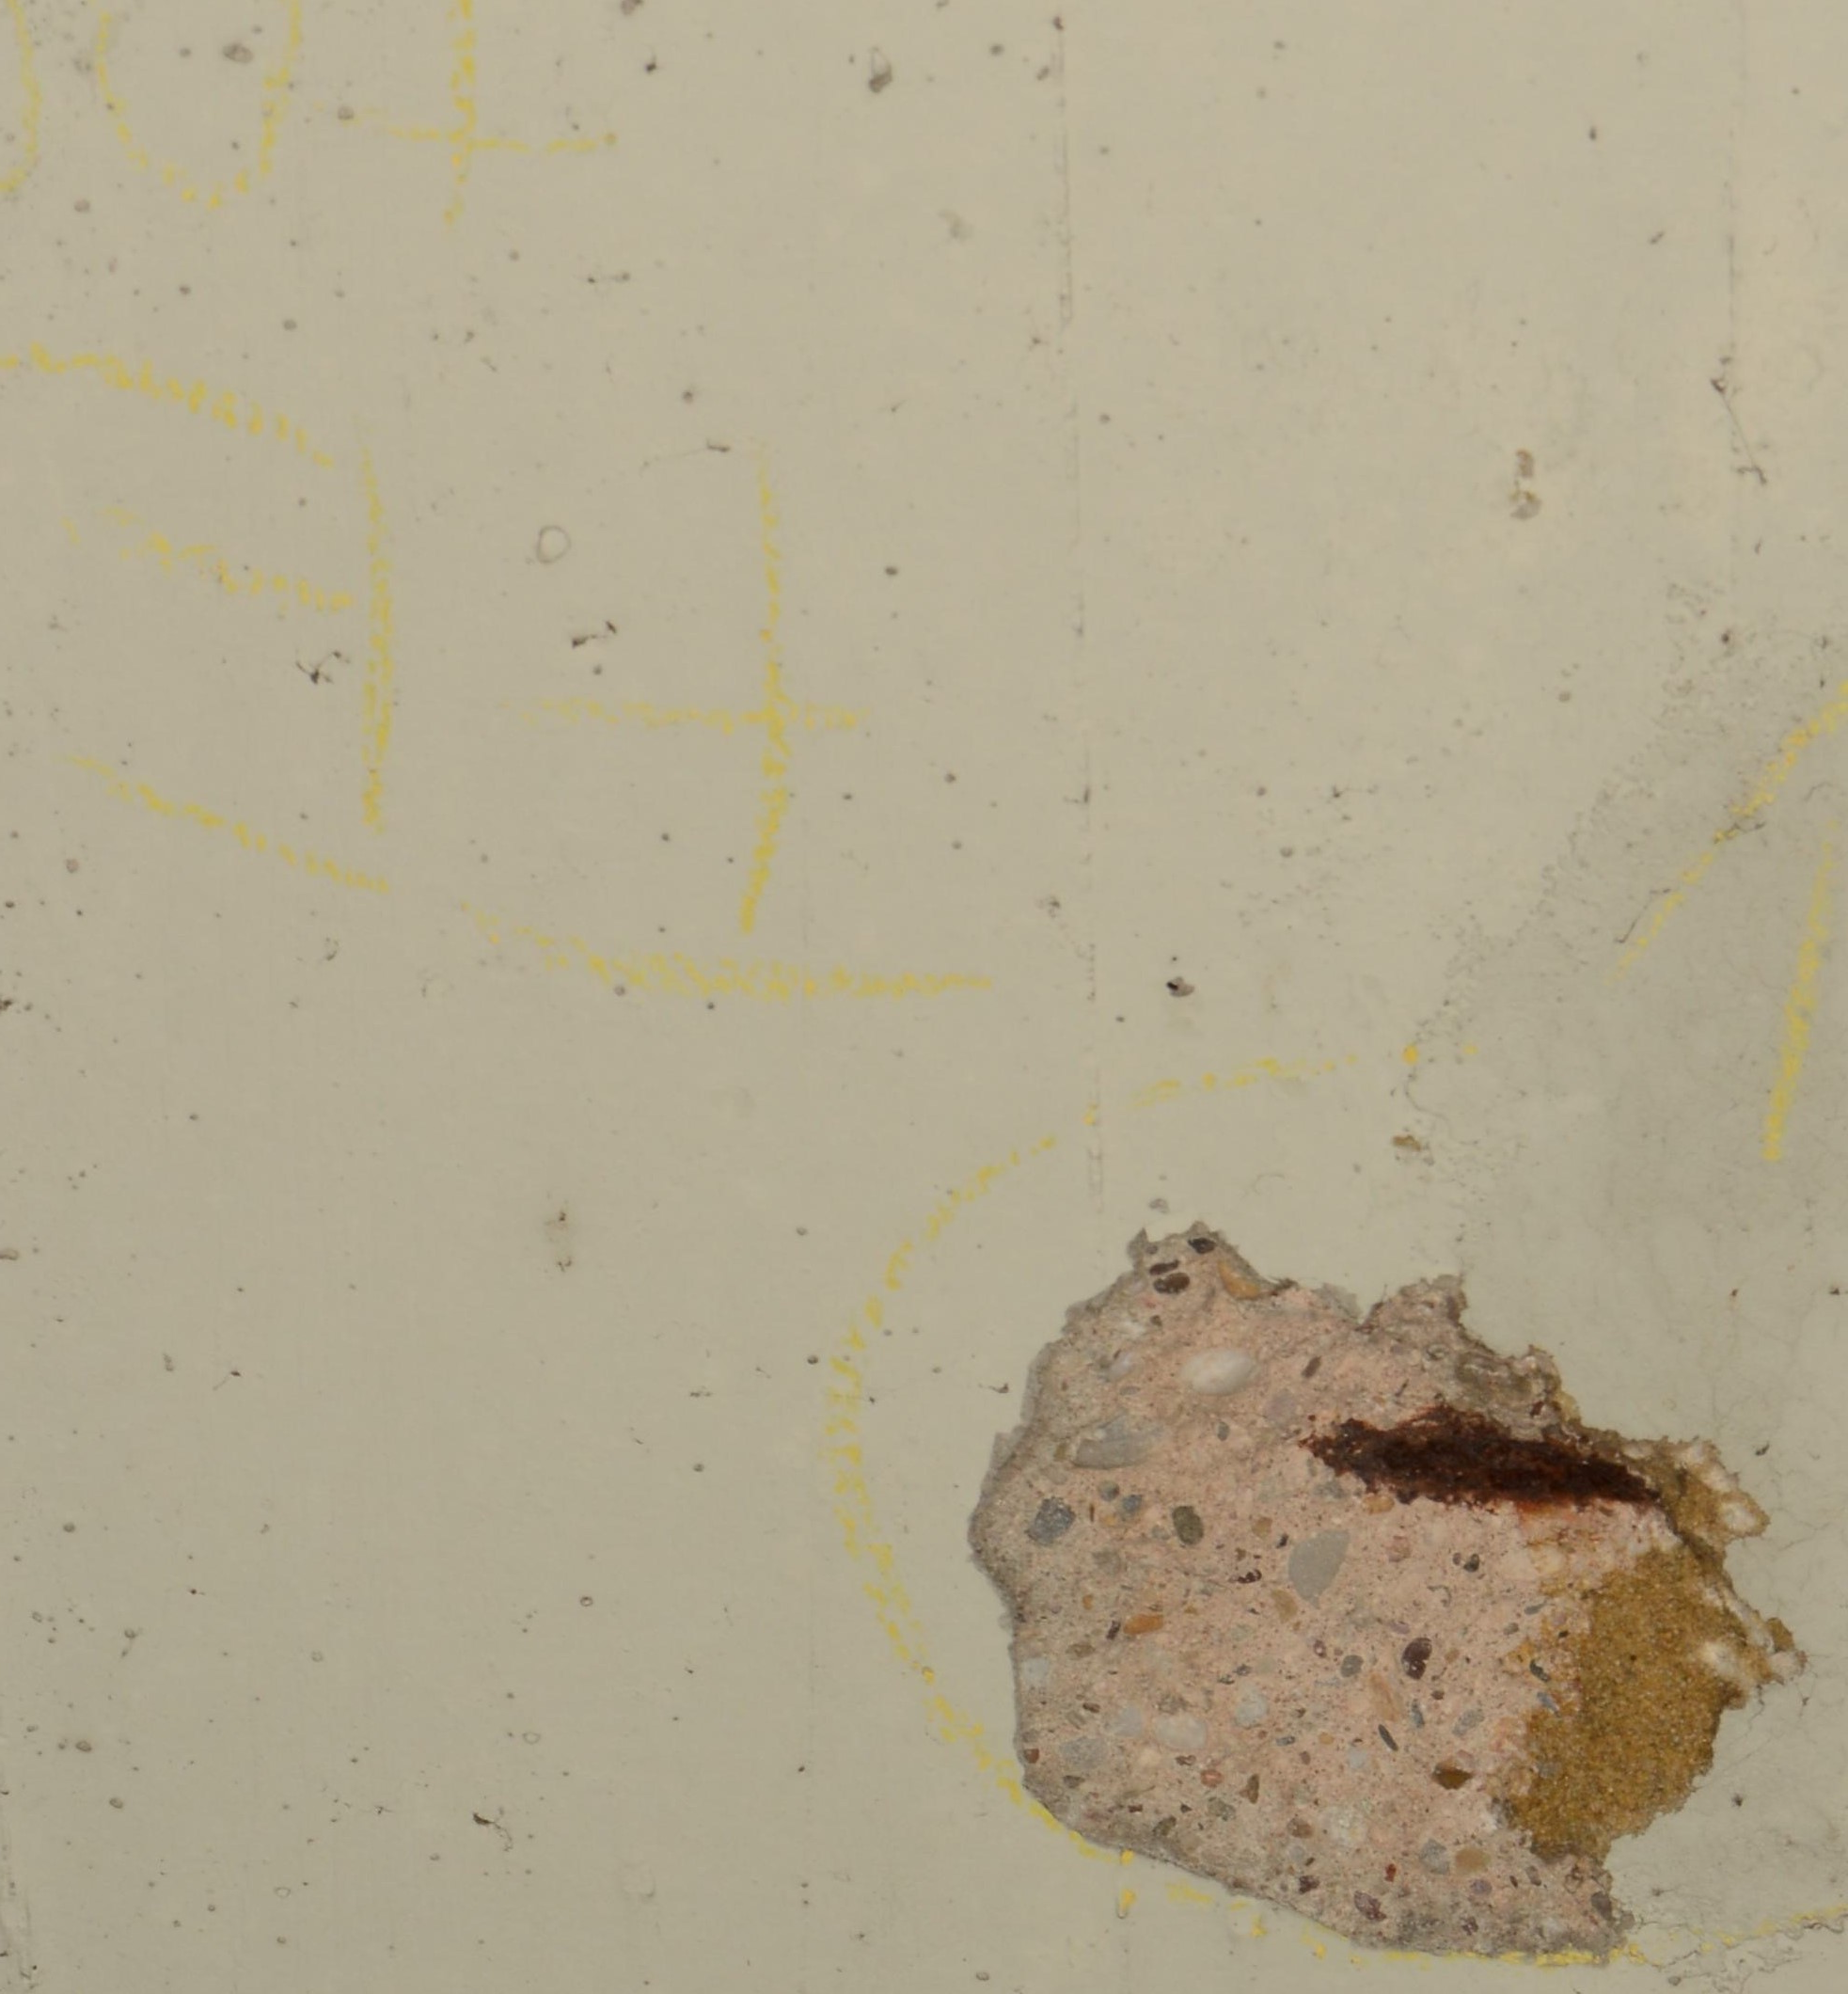Exposed reinforcement: (1306, 1414, 1648, 1506)
Spalling: (966, 1221, 1808, 1958)
